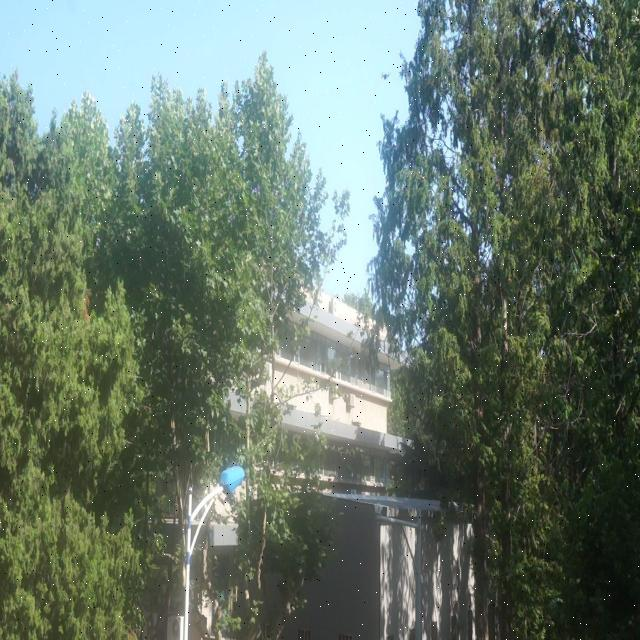UAV: (381, 72, 391, 80)
